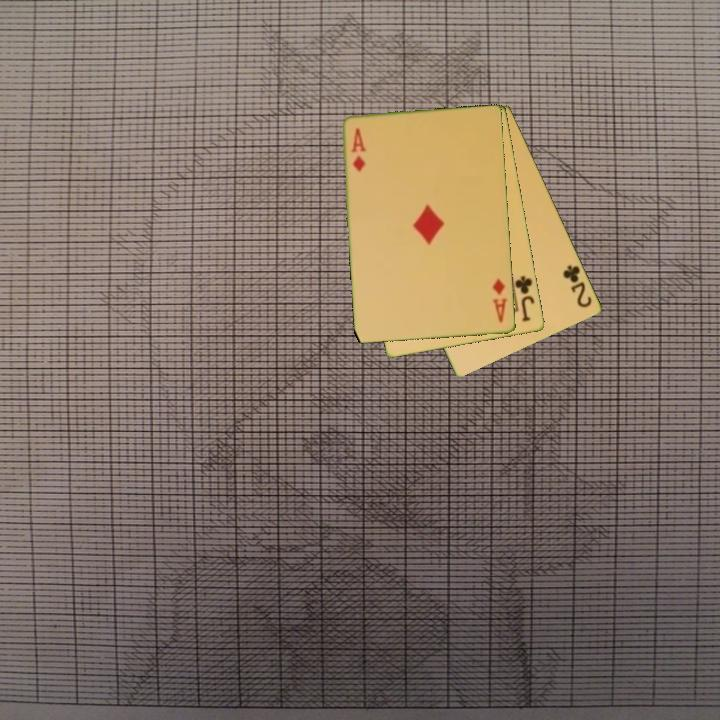2c: (560, 262, 595, 311)
Ad: (489, 275, 510, 325), (348, 125, 369, 175)
Jc: (509, 272, 537, 325)
